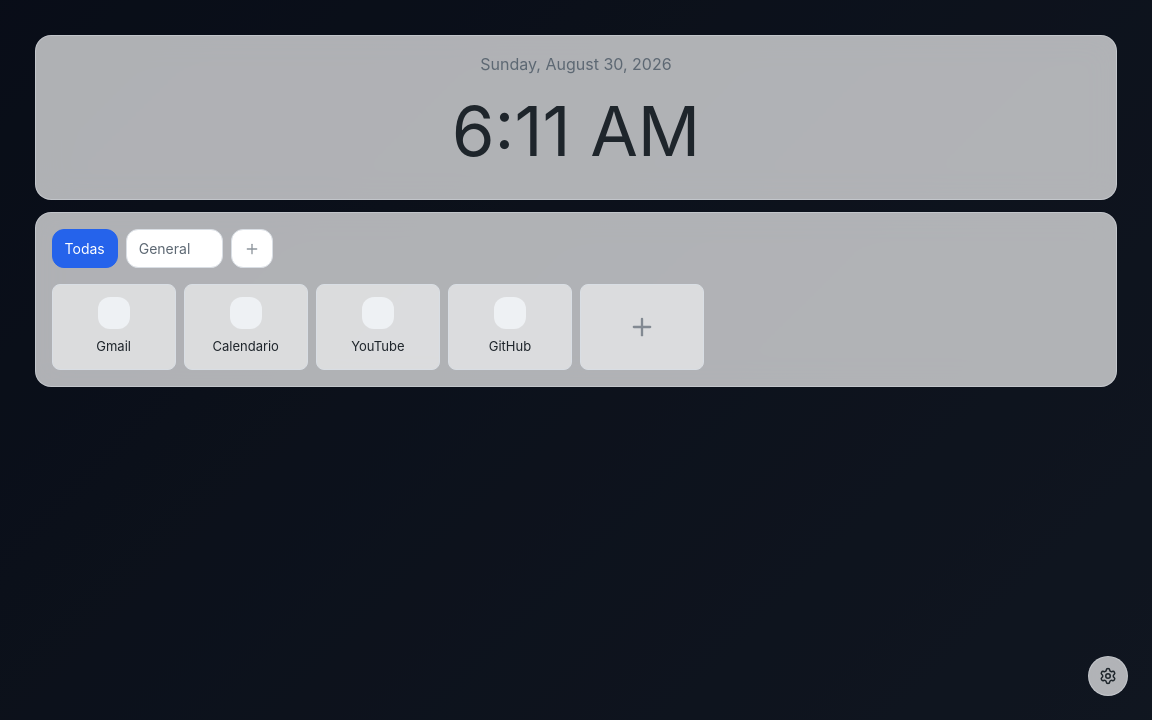
Accessibility (User Story 3) › exposes an accessible name for the theme toggle once settings are open
Step 1. Click the button named "Alternar configuración" → (1108, 676), box [1088,656,1128,696]
(page scrolled)
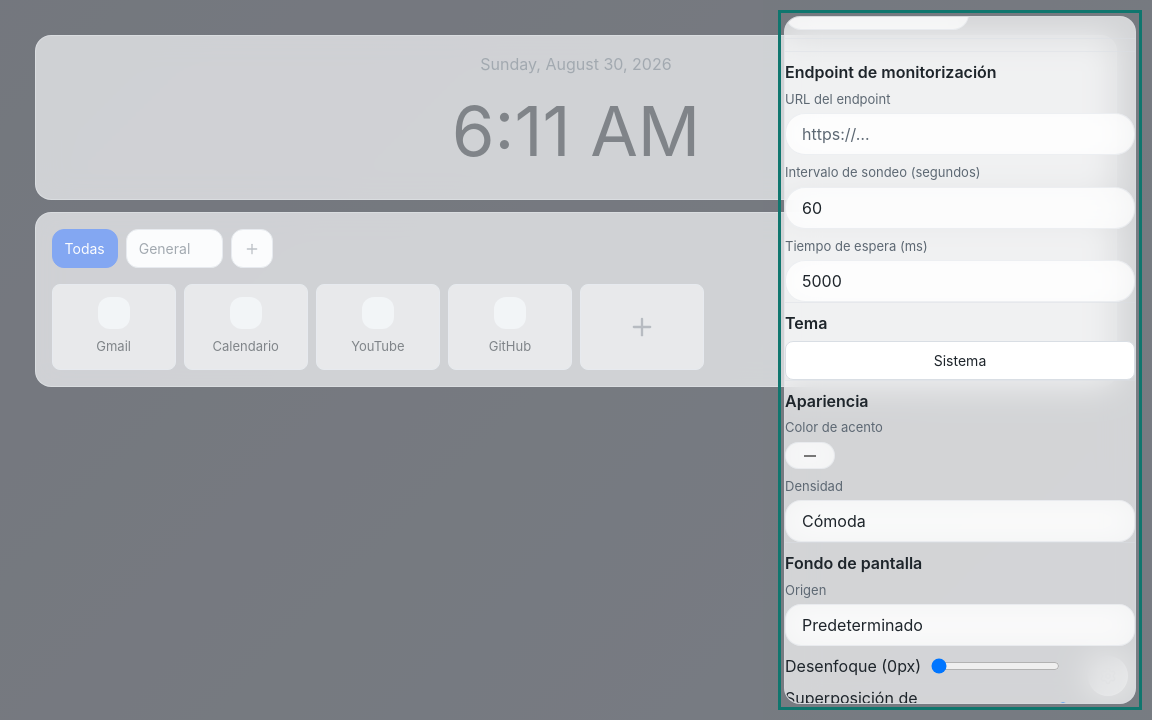
Check: the button with aria-label "cambiar tema" is shown, box [785,341,1135,380]
